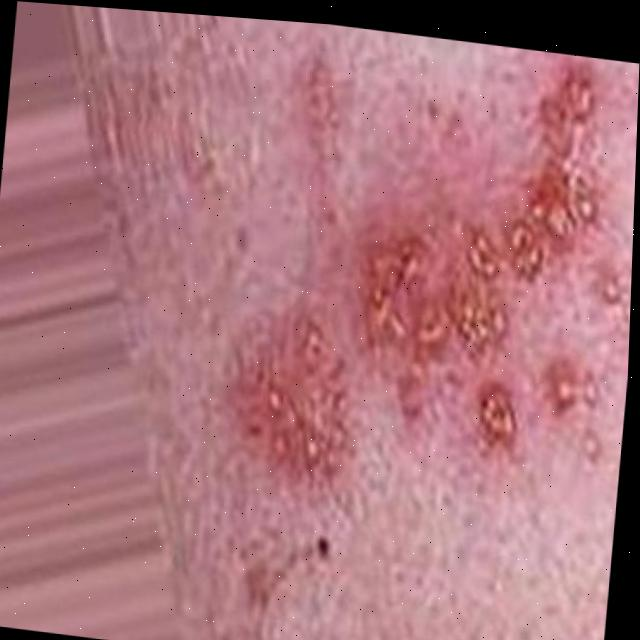Shingles: (232, 33, 639, 518)
